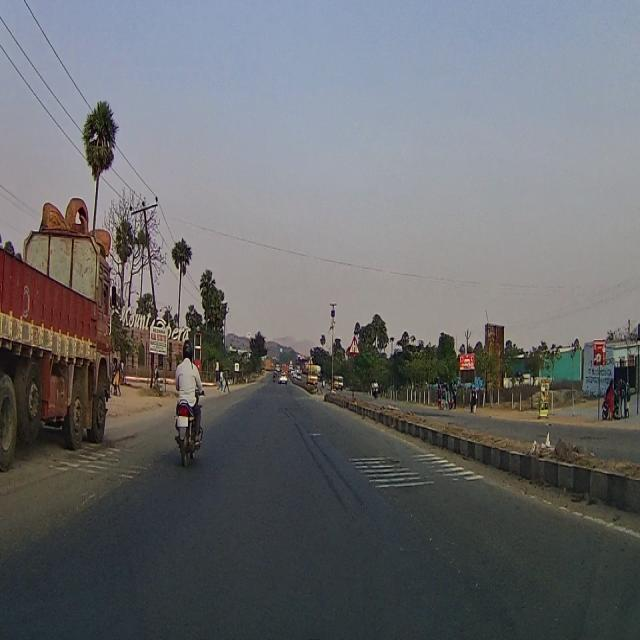gap-in-median: (348, 328, 362, 358)
